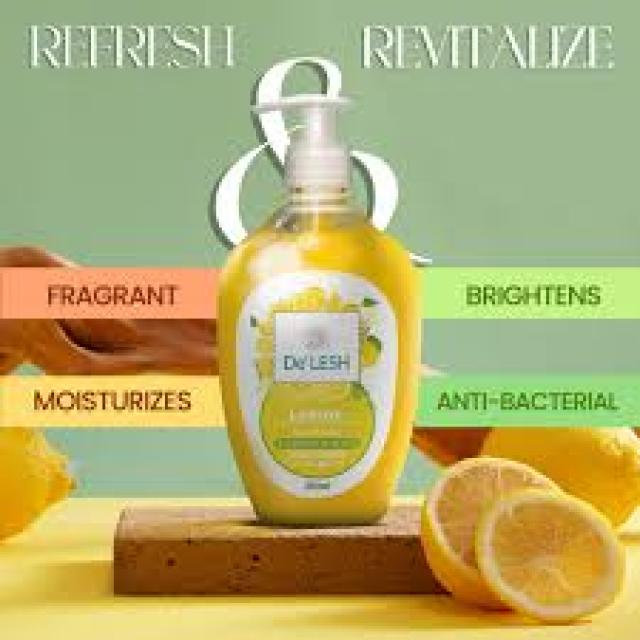liquid soap: (221, 90, 435, 532)
